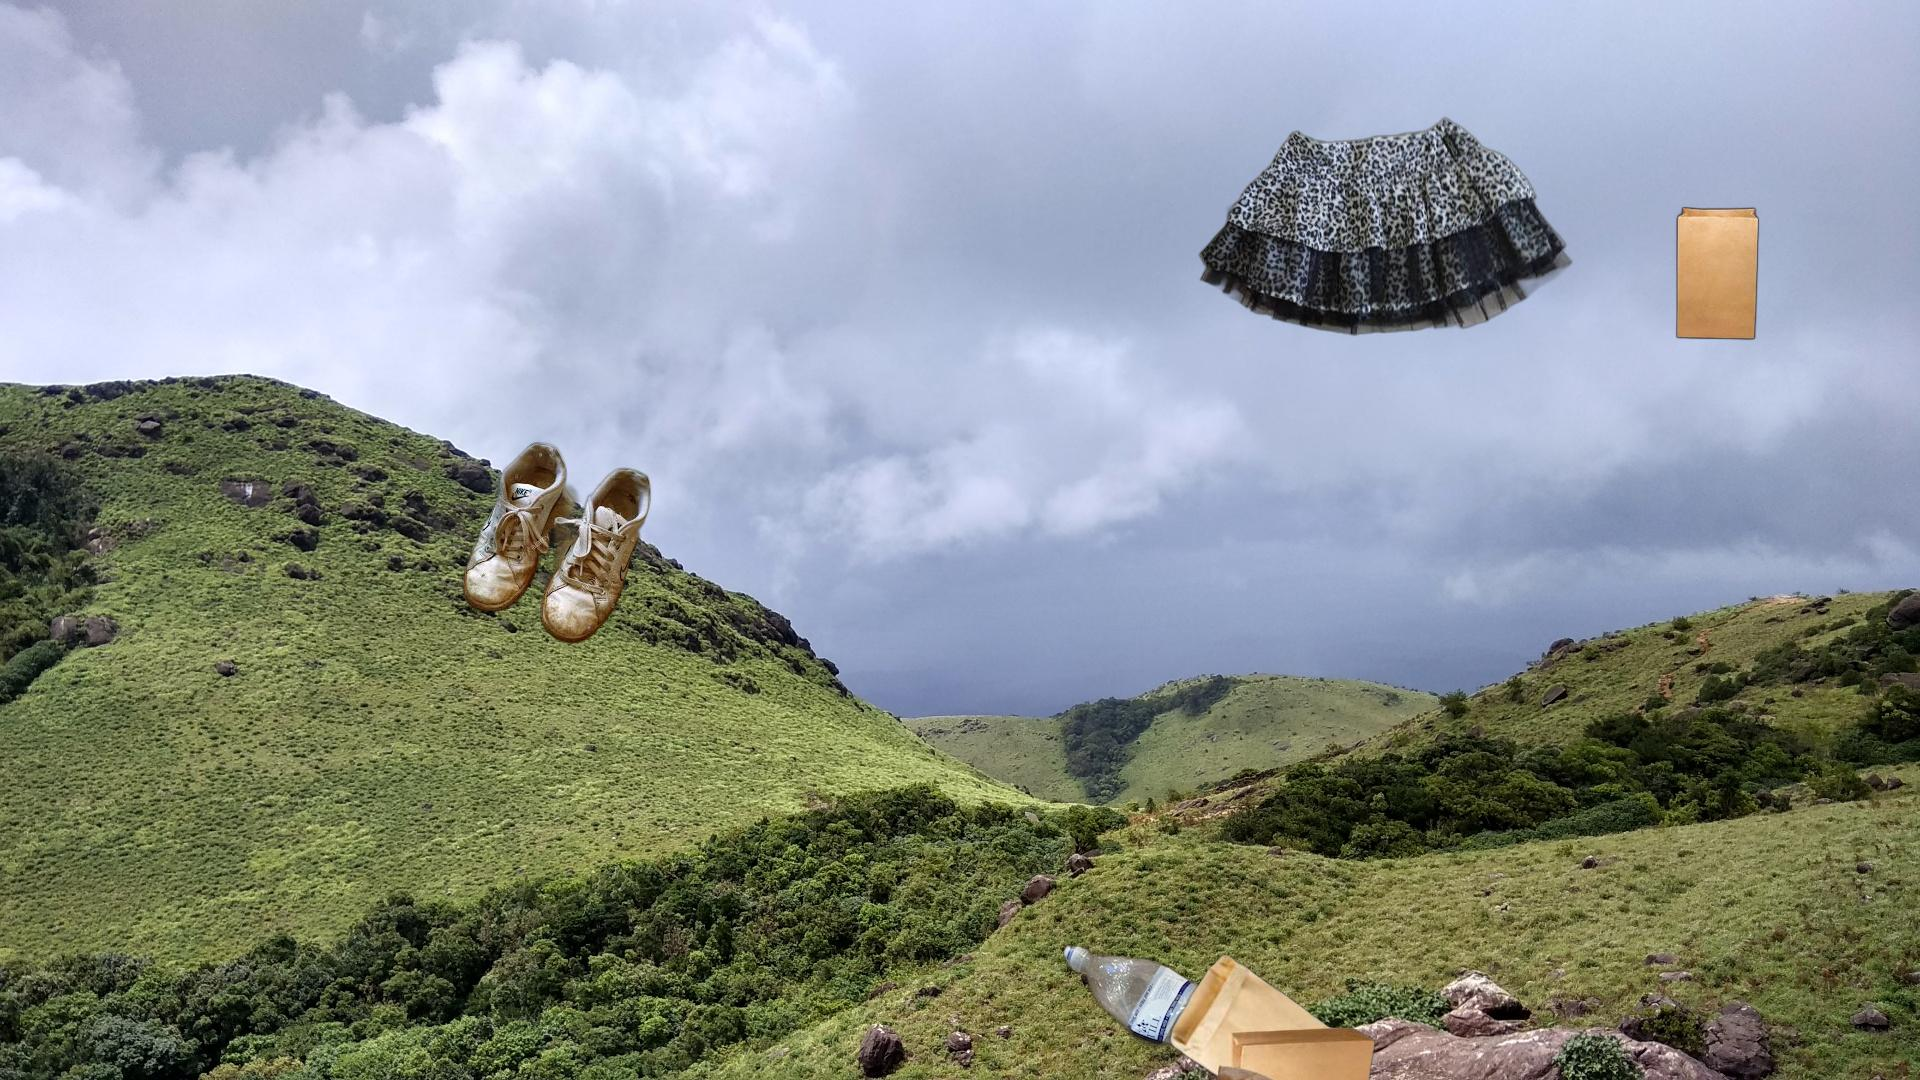clothes: (1196, 113, 1575, 338)
paper-bag: (1578, 162, 1878, 460), (1167, 951, 1378, 1080)
plastic-bottles: (945, 940, 1215, 1080)
shoes: (460, 439, 653, 647)
